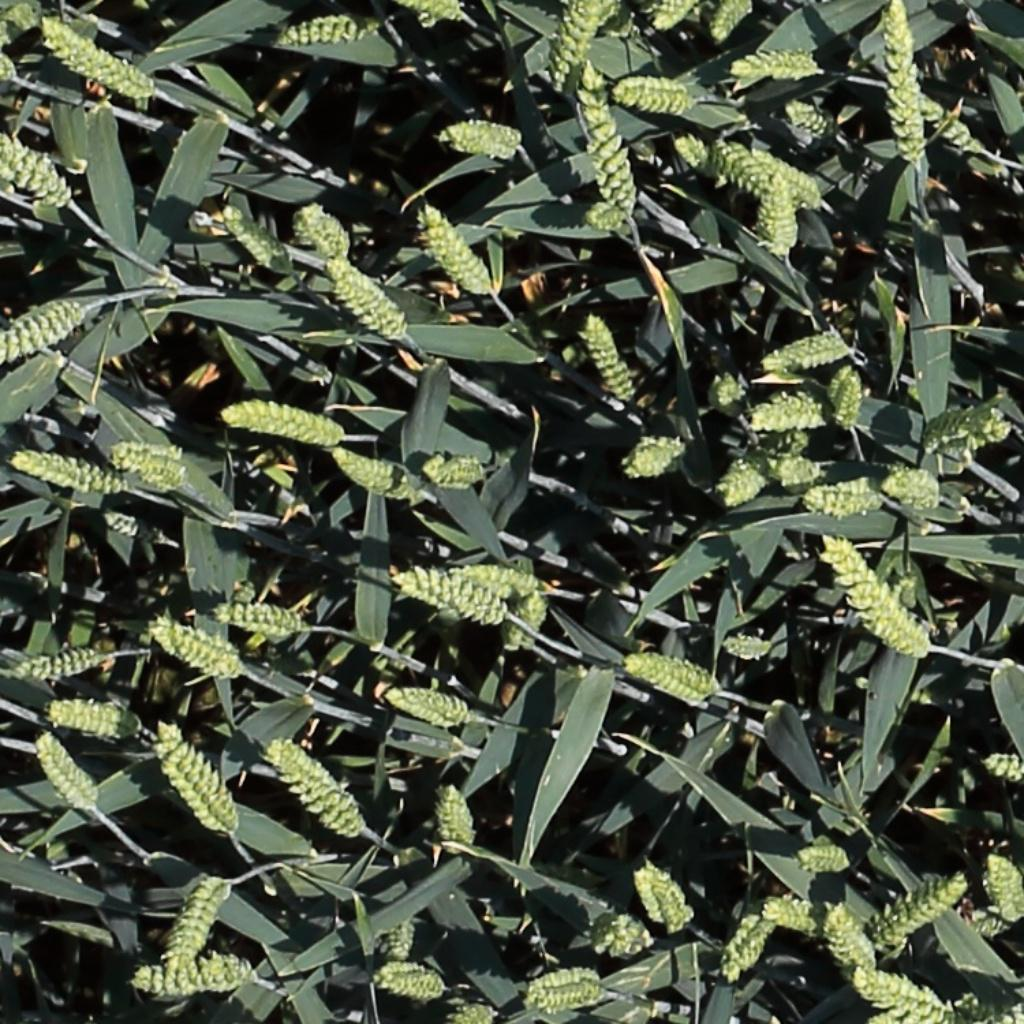0-0: (824, 539, 929, 659), (252, 731, 369, 838), (154, 719, 241, 838), (869, 1, 927, 167), (128, 946, 262, 1008), (578, 68, 636, 211), (39, 21, 150, 95), (214, 389, 338, 453), (417, 196, 495, 296), (0, 286, 100, 363), (875, 869, 974, 946), (144, 609, 243, 677), (11, 432, 110, 499), (166, 871, 230, 973), (329, 259, 408, 337), (393, 570, 505, 623), (1, 124, 70, 210), (26, 728, 95, 813), (378, 676, 484, 730), (582, 307, 638, 409), (4, 640, 113, 692), (755, 322, 854, 378), (163, 760, 232, 839), (550, 0, 606, 96), (854, 589, 928, 658), (853, 970, 947, 1024), (753, 880, 830, 945), (923, 400, 1011, 455), (106, 432, 192, 488), (796, 475, 886, 528), (722, 48, 825, 94), (39, 692, 135, 741), (219, 202, 288, 270), (213, 593, 312, 640), (434, 116, 526, 166), (826, 901, 884, 980), (611, 68, 697, 121), (526, 960, 607, 1014), (752, 167, 797, 264), (334, 449, 421, 498), (917, 94, 987, 154), (749, 384, 825, 438), (752, 148, 827, 202), (716, 909, 767, 988), (451, 554, 540, 599), (626, 658, 719, 700), (425, 444, 497, 498), (275, 12, 367, 54), (712, 136, 775, 196), (501, 590, 560, 654), (879, 461, 946, 517), (826, 359, 875, 434), (619, 431, 687, 485), (705, 455, 763, 517), (766, 446, 831, 500), (294, 200, 352, 260), (645, 862, 692, 936), (429, 779, 475, 853), (632, 864, 677, 936), (364, 963, 447, 1002), (667, 123, 722, 180), (698, 365, 756, 418), (791, 832, 856, 878), (985, 850, 1022, 928), (571, 190, 639, 232), (593, 914, 655, 958), (777, 99, 837, 143), (976, 741, 1024, 791), (708, 0, 755, 49), (722, 628, 780, 666), (392, 909, 420, 986), (96, 506, 160, 539), (394, 0, 464, 30), (448, 986, 498, 1024), (652, 0, 693, 31)
